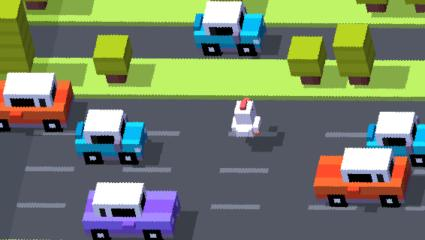hen: (231, 98, 262, 137)
obstacle: (316, 147, 408, 207), (86, 182, 181, 240), (0, 73, 67, 132), (75, 110, 146, 164), (195, 1, 242, 56), (0, 0, 34, 74), (332, 24, 371, 85), (366, 111, 414, 157), (94, 34, 132, 84), (289, 36, 328, 84), (239, 5, 264, 56), (413, 111, 425, 166), (3, 0, 50, 10), (366, 4, 387, 12), (414, 3, 425, 12)
